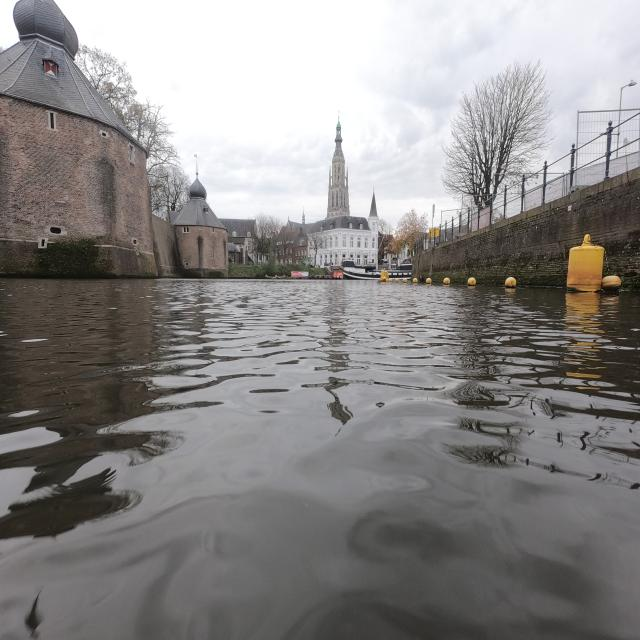boat: (343, 260, 383, 280), (388, 263, 412, 279)
grass: (228, 263, 326, 279)
sky: (58, 2, 638, 220)
wall: (2, 2, 224, 274), (418, 168, 638, 286)
water: (8, 290, 634, 634)
